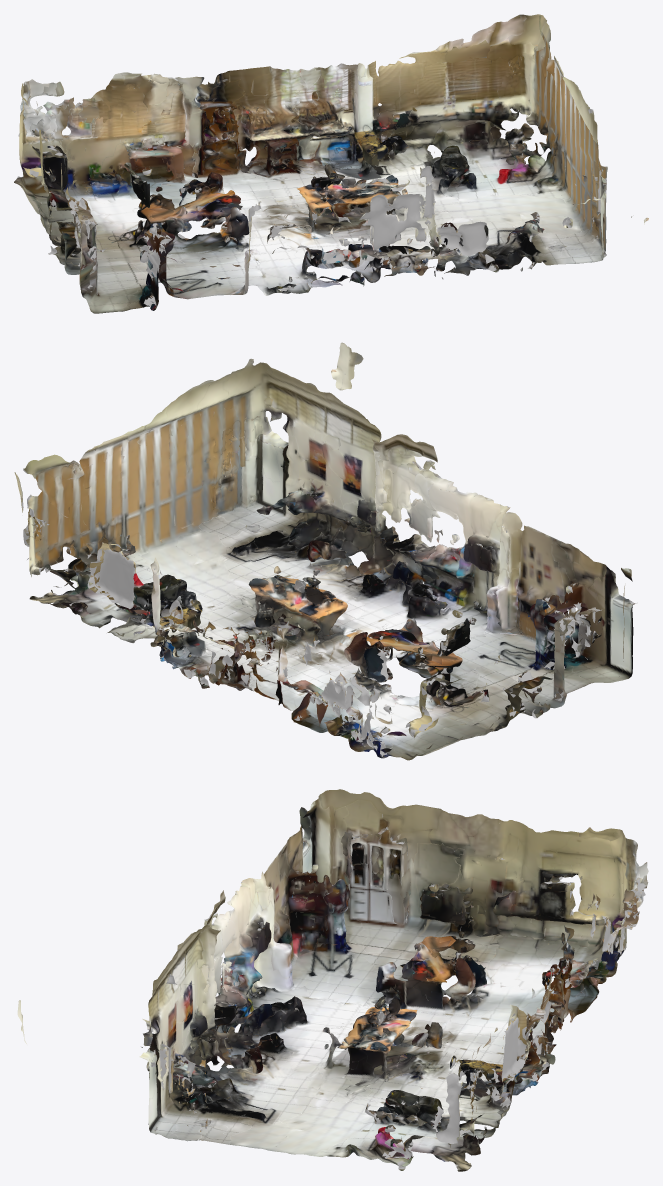
File: navmesh.gltf
The picture shows the model from 3 angles, top to bottom: view 1: azimuth 30°, elevation 25°; view 2: azimuth 150°, elevation 25°; view 3: azimuth 270°, elevation 25°; orthographic projection. The views are drawn at different scales.
Parts seen in each view (by area): view 1: TexturedMeshobj; view 2: TexturedMeshobj; view 3: TexturedMeshobj.
Part boxes in pixels (left/top/right/bottom): TexturedMeshobj: left=14, top=14, right=648, bottom=313; TexturedMeshobj: left=14, top=342, right=636, bottom=760; TexturedMeshobj: left=17, top=789, right=648, bottom=1171.
Bounding box in the file's own units: 13.63 × 3.79 × 13.15.
1 material, 1 textured.
